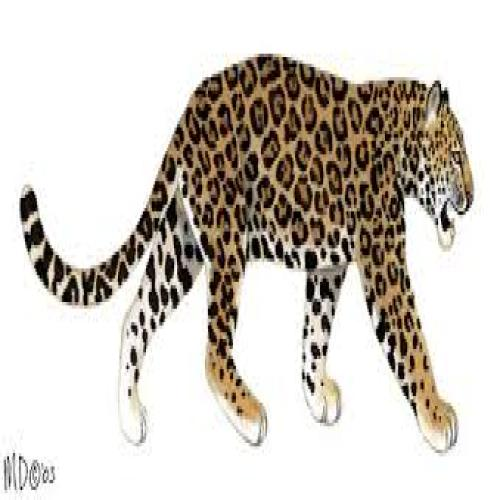jaguar_not-endangered: (22, 52, 477, 452)
